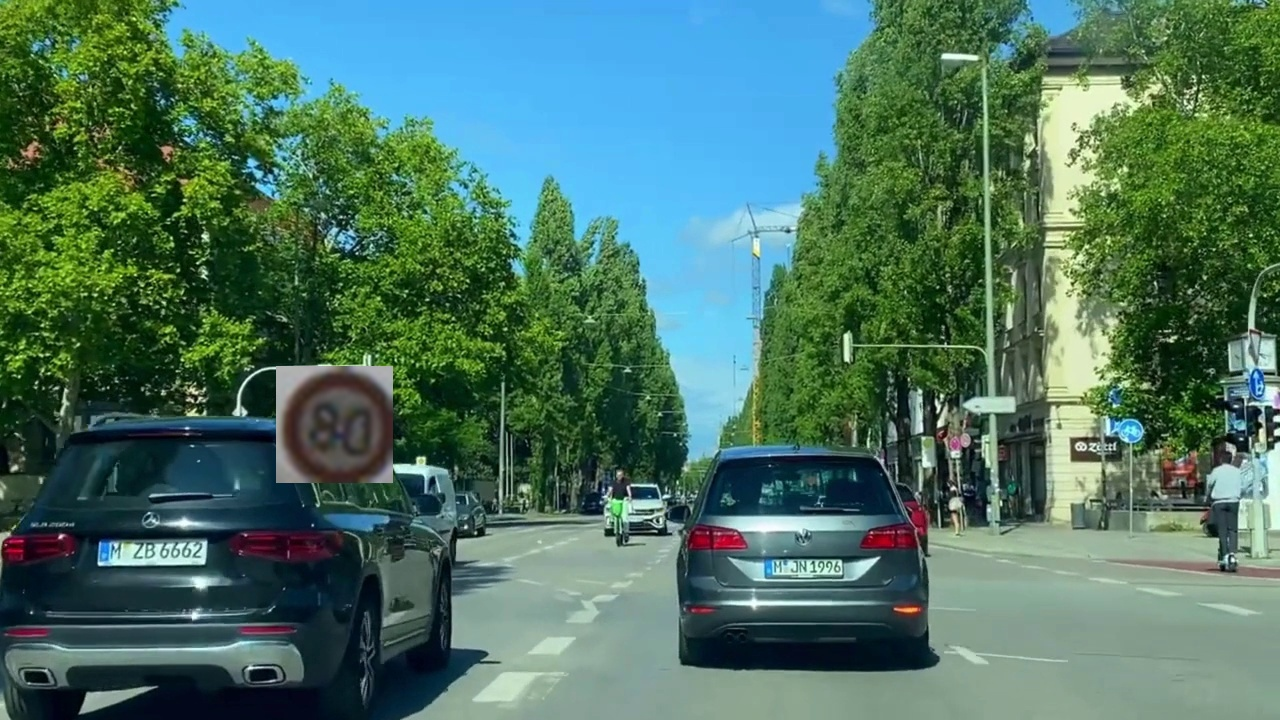Speed 80: (276, 366, 393, 483)
